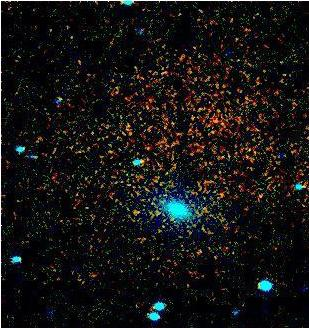star: (126, 196, 156, 226)
